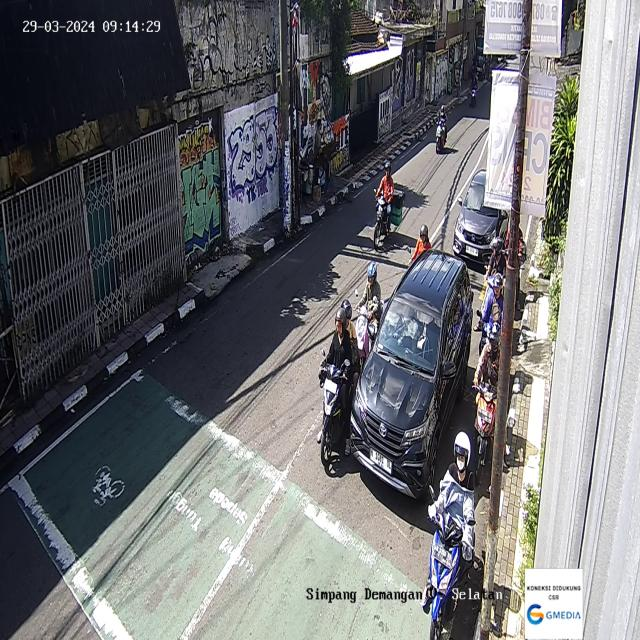car: (349, 247, 474, 500), (453, 168, 508, 267)
motorcycle: (318, 300, 360, 476), (471, 323, 502, 485), (354, 258, 385, 368), (372, 161, 404, 251), (477, 272, 505, 365), (484, 236, 506, 287), (407, 226, 433, 262), (435, 106, 448, 154), (469, 71, 478, 107)
